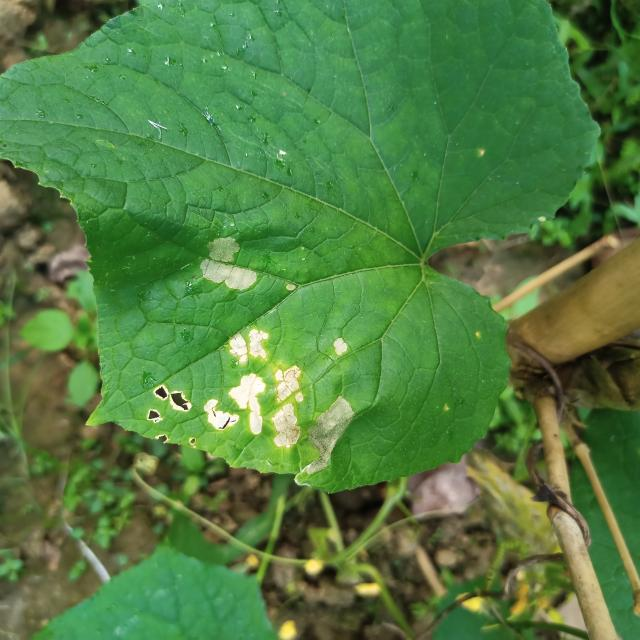disease_cucumber: (130, 317, 374, 478), (184, 226, 264, 298)
